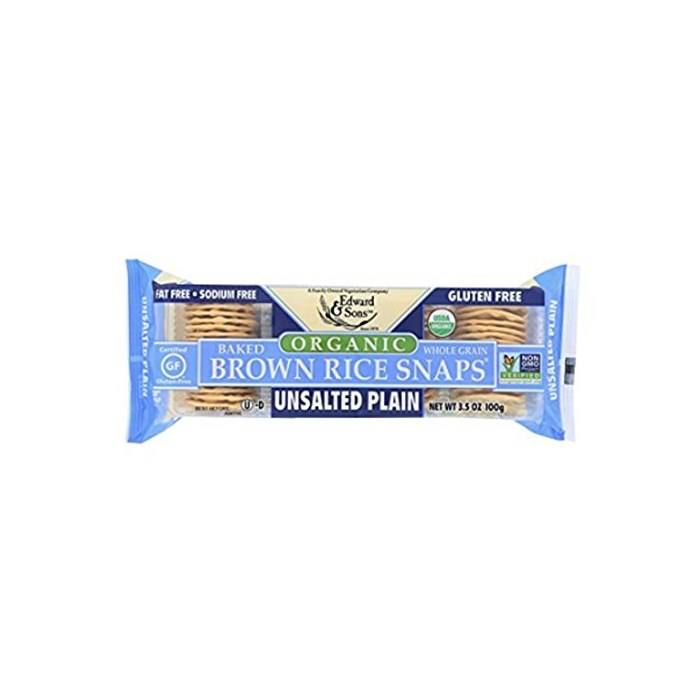slice of bread: (183, 311, 251, 337)
